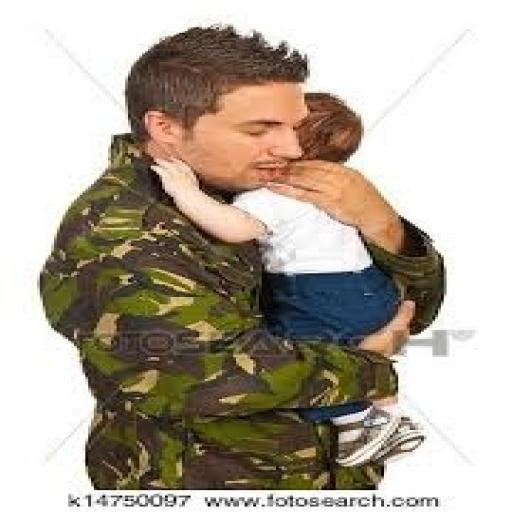hugging: (37, 22, 449, 488)
